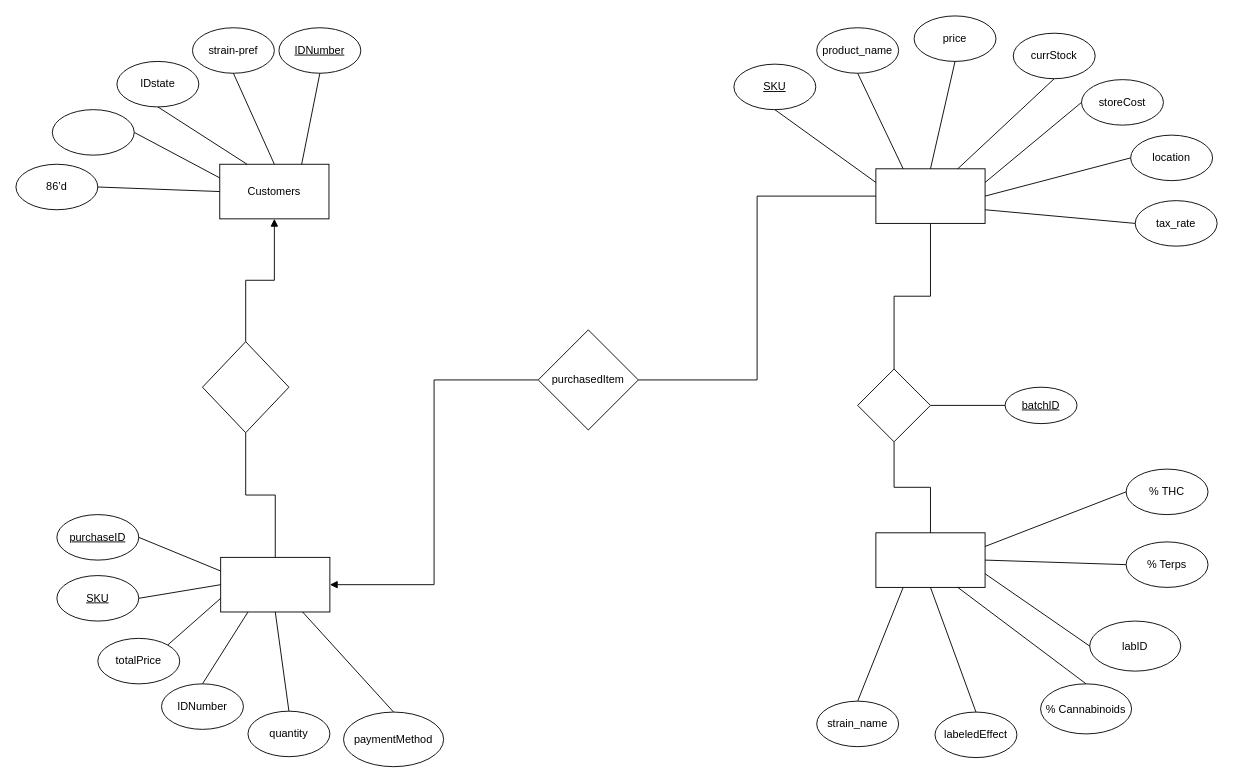
The diagram is 1233 pixels wide and 783 high, and some of its shapes have lost their labels. Here are the shapes that lost their labels. From the top down, the centre of each, then its label:
pixel 92 132: name
pixel 930 195: Products
pixel 245 387: purchasedBy
pixel 893 405: hasTest
pixel 930 559: TestData
pixel 275 584: Purchases
